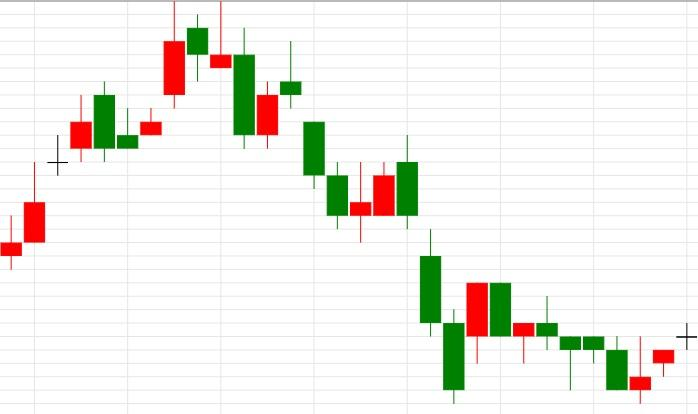bearish_engulfing_fall: (0, 80, 116, 270), (326, 135, 418, 243)
hammer_rise: (466, 282, 582, 405)
three_black_crows_fall: (326, 135, 465, 404)
